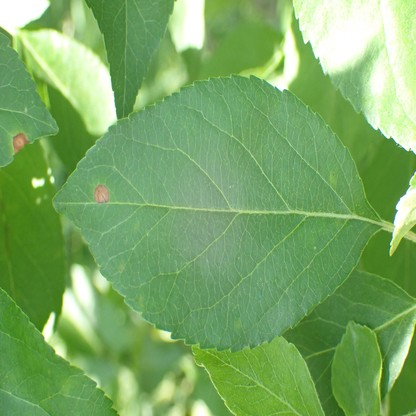frogeye_leaf_spot: (12, 134, 28, 151), (94, 186, 109, 203)
